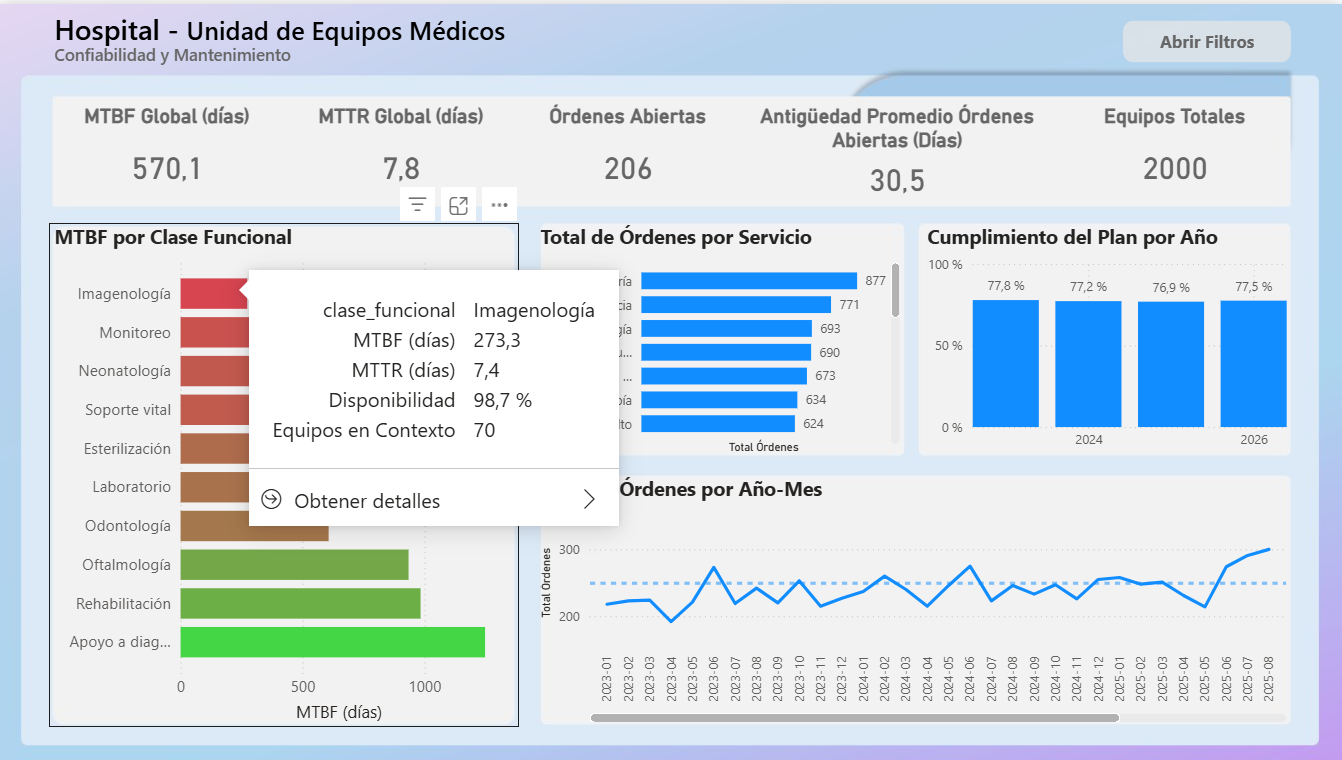

What the dashboard file says about the page in this screenshot:
{"tool":"powerbi","page":{"name":"Confiabilidad y Mantenimiento","canvas":[1280,720],"ordinal":1},"visuals":[{"type":"card","title":"Órdenes Abiertas","fields":{"Values":["_Medidas.Órdenes Abiertas"]},"box":[496,96,208,96],"z":0},{"type":"actionButton","title":"Open","box":[1072,16,160,40],"z":1000,"group":"g1"},{"type":"card","title":"MTTR Global (días)","fields":{"Values":["_Medidas.MTTR (días)"]},"box":[272,96,224,96],"z":1000},{"type":"card","title":"Antigüedad Promedio Órdenes Abiertas","fields":{"Values":["_Medidas.Antigüedad Promedio Backlog (Días)"]},"box":[704,96,304,96],"z":2000},{"type":"card","title":"MTBF Global (días)","fields":{"Values":["_Medidas.MTBF (días)"]},"box":[48,96,224,96],"z":3000},{"type":"clusteredBarChart","title":"MTBF por Clase Funcional","fields":{"Category":["dim_equipo.clase_funcional"],"Y":["_Medidas.MTBF (días)"]},"box":[48,208,448,480],"z":4000},{"type":"clusteredBarChart","title":"Total de Órdenes por Servicio","fields":{"Category":["dim_ubicacion.servicio_clinico"],"Y":["_Medidas.Total Órdenes"]},"box":[512,208,352,224],"z":5000},{"type":"lineChart","title":"Total de Órdenes por Año-Mes","fields":{"Category":["dim_fecha.anio_mes"],"Y":["_Medidas.Total Órdenes"]},"box":[512,448,720,240],"z":6000},{"type":"clusteredColumnChart","title":"Cumplimiento del Plan por Año","fields":{"Category":["dim_fecha.anio"],"Y":["_Medidas.% Cumplimiento Plan"]},"box":[880,208,352,224],"z":7000},{"type":"card","title":"Equipos Totales","fields":{"Values":["_Medidas.Equipos en Contexto"]},"box":[1008,96,224,96],"z":8000},{"type":"textbox","box":[48,0,448,48],"z":9000},{"type":"textbox","box":[48,32,304,32],"z":10000},{"type":"group","id":"g1","title":"Buttons","box":[1072,16,160,40],"z":12000}]}

Visuals, with their boxes in screenshot pixels (x1, y1, x2, y2), scaled from the page's 1280x720 canvas onto the 1342x760 screenshot:
"Órdenes Abiertas" card: bbox=[520, 101, 738, 203]
"Open" actionButton: bbox=[1124, 17, 1292, 59]
"MTTR Global (días)" card: bbox=[285, 101, 520, 203]
"Antigüedad Promedio Órdenes Abiertas" card: bbox=[738, 101, 1057, 203]
"MTBF Global (días)" card: bbox=[50, 101, 285, 203]
"MTBF por Clase Funcional" clusteredBarChart: bbox=[50, 220, 520, 726]
"Total de Órdenes por Servicio" clusteredBarChart: bbox=[537, 220, 906, 456]
"Total de Órdenes por Año-Mes" lineChart: bbox=[537, 473, 1292, 726]
"Cumplimiento del Plan por Año" clusteredColumnChart: bbox=[923, 220, 1292, 456]
"Equipos Totales" card: bbox=[1057, 101, 1292, 203]
textbox: bbox=[50, 0, 520, 51]
textbox: bbox=[50, 34, 369, 68]
"Buttons" group: bbox=[1124, 17, 1292, 59]
